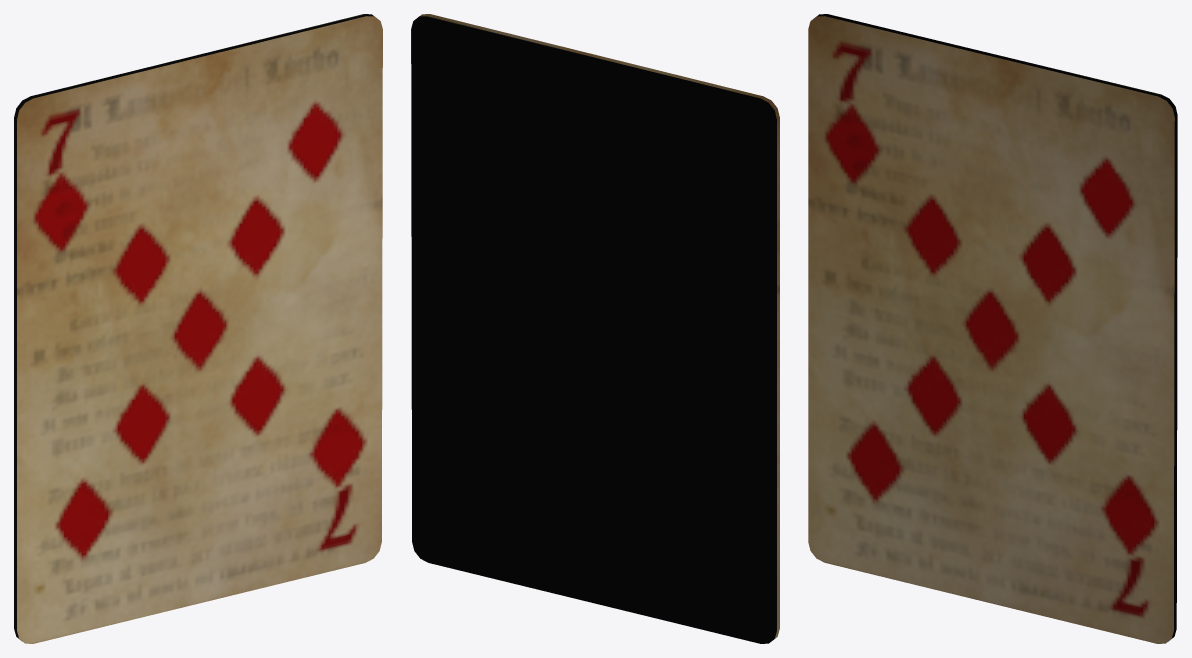
File: Card.033.fbx
3 renders of one model, left to right at view 1: azimuth 30°, elevation 25°; view 2: azimuth 150°, elevation 25°; view 3: azimuth 330°, elevation 25°, orthographic.
Visible parts, largest first — view 1: Card.033; view 2: Card.033; view 3: Card.033.
Part boxes in pixels (x1,y1,x2,y2): Card.033: (14,14,382,643); Card.033: (411,14,779,643); Card.033: (808,14,1177,643).
Bounding box in the file's own units: 11.23 × 16.03 × 0.1561.
